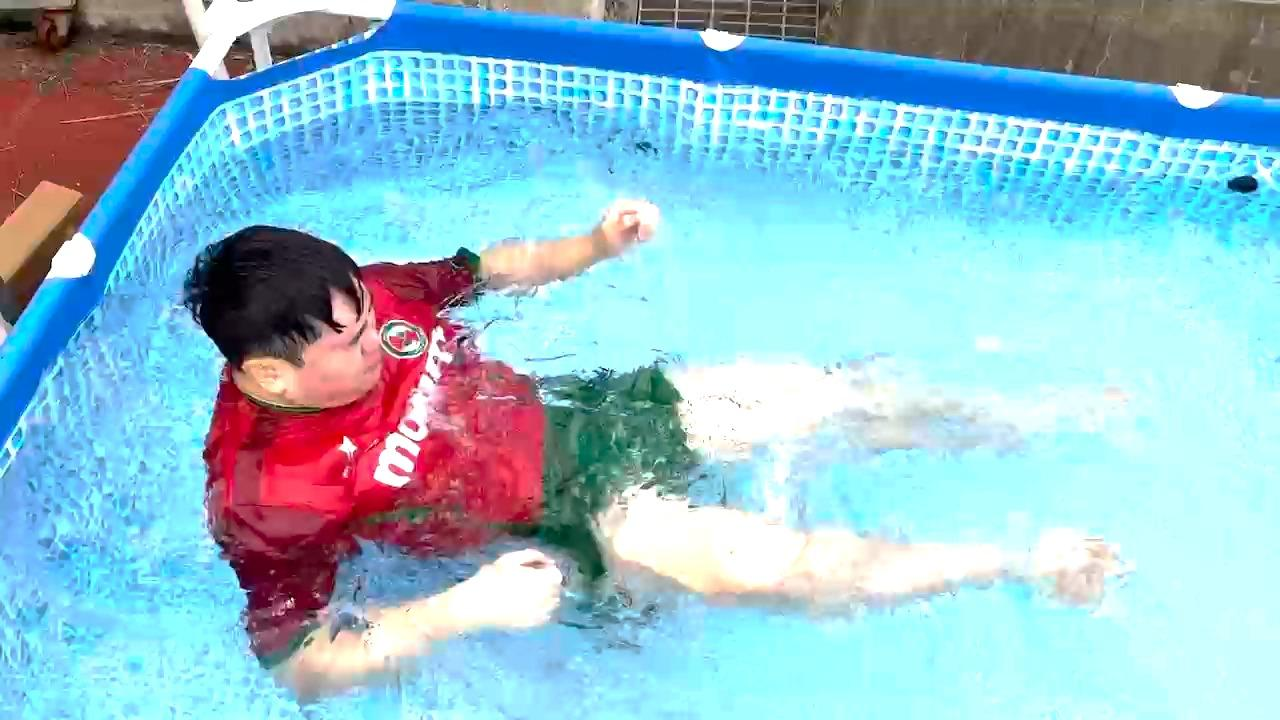Drowning: (130, 180, 1173, 720)
